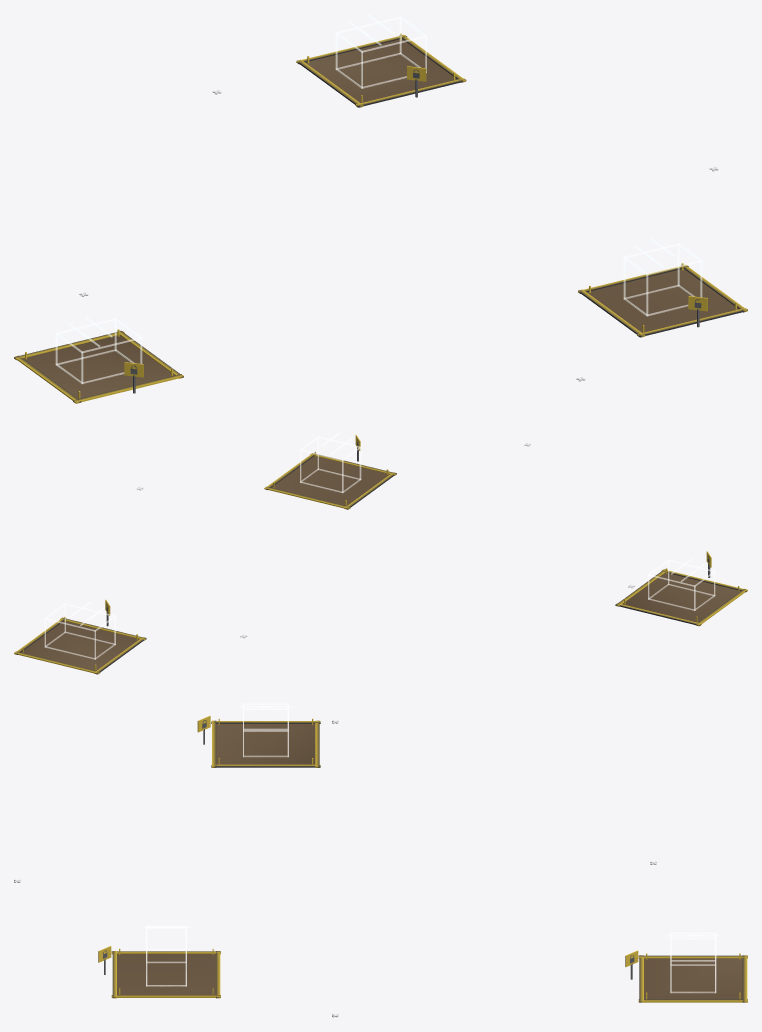
Rendered from Sites_P1.fbx.
3 views of the same model, one above another, from view 1: azimuth 30°, elevation 25°; view 2: azimuth 150°, elevation 25°; view 3: azimuth 270°, elevation 25° (orthographic). The views are drawn at different scales.
Visible parts, largest first — view 1: Site.store.Pad, Site.quarry.Pad, Site.plant.Pad, Site.store.Ghost, Site.plant.Ghost, Site.quarry.Ghost; view 2: Site.store.Pad, Site.plant.Pad, Site.quarry.Pad, Site.store.Ghost, Site.plant.Ghost, Site.quarry.Ghost; view 3: Site.store.Pad, Site.plant.Pad, Site.quarry.Pad, Site.store.Ghost, Site.quarry.Ghost, Site.plant.Ghost.
Boxes of the visible parts, x1,y1,x2,y2 form: Site.store.Pad: (296,33,466,107); Site.quarry.Pad: (14,329,183,403); Site.plant.Pad: (578,263,747,337); Site.store.Ghost: (335,14,426,88); Site.plant.Ghost: (623,238,702,316); Site.quarry.Ghost: (55,317,142,384); Site.store.Pad: (14,616,146,674); Site.plant.Pad: (264,451,396,509); Site.quarry.Pad: (615,568,747,626); Site.store.Ghost: (44,601,115,659); Site.plant.Ghost: (300,432,361,492); Site.quarry.Ghost: (648,558,715,610); Site.store.Pad: (638,953,747,1002); Site.plant.Pad: (111,948,220,998); Site.quarry.Pad: (211,718,320,767); Site.store.Ghost: (666,932,720,993); Site.quarry.Ghost: (238,703,292,757); Site.plant.Ghost: (142,925,190,986).
Bounding box in the file's own units: 28934 × 2233 × 29534.
